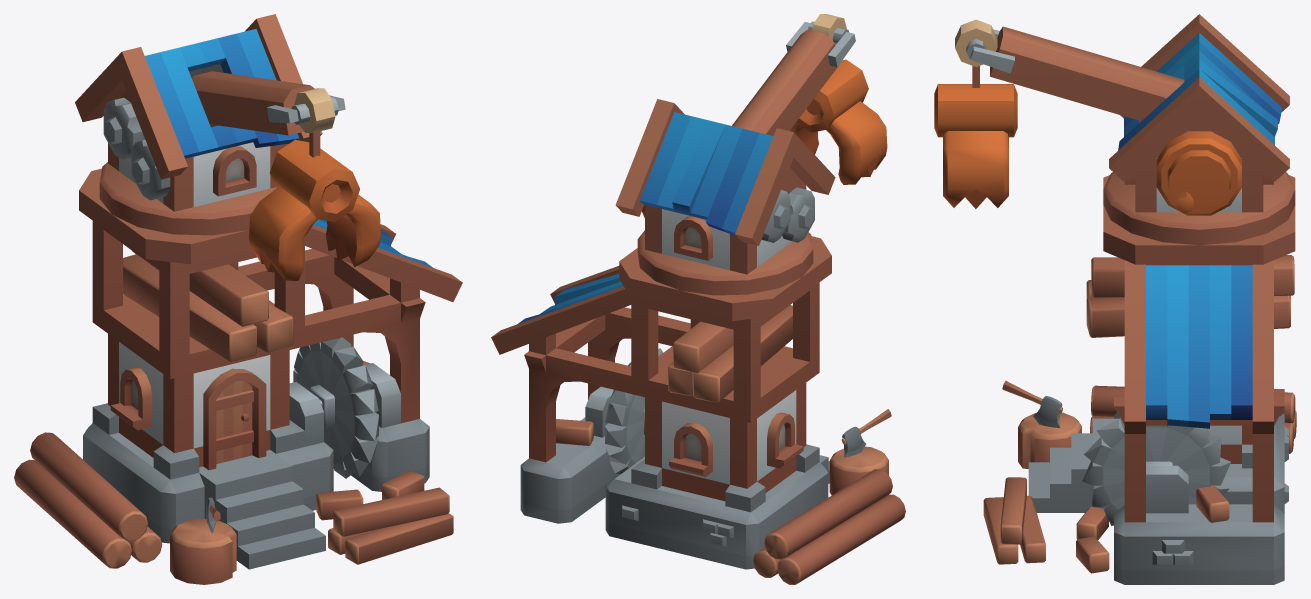
The model's file is lumbermill.glb.
3 views of the same model, side by side, from view 1: azimuth 30°, elevation 25°; view 2: azimuth 150°, elevation 25°; view 3: azimuth 270°, elevation 25° (orthographic). The views are drawn at different scales.
Parts seen in each view (by area): view 1: building_lumbermill_blue, building_lumbermill_top_blue, building_lumbermill_saw_blue; view 2: building_lumbermill_blue, building_lumbermill_top_blue, building_lumbermill_saw_blue; view 3: building_lumbermill_blue, building_lumbermill_top_blue, building_lumbermill_saw_blue.
Boxes of the visible parts, x1,y1,x2,y2 form: building_lumbermill_blue: [14, 168, 462, 584]; building_lumbermill_top_blue: [75, 14, 380, 280]; building_lumbermill_saw_blue: [293, 337, 378, 478]; building_lumbermill_blue: [491, 236, 905, 584]; building_lumbermill_top_blue: [615, 14, 887, 295]; building_lumbermill_saw_blue: [605, 348, 662, 474]; building_lumbermill_blue: [983, 175, 1296, 584]; building_lumbermill_top_blue: [934, 14, 1295, 245]; building_lumbermill_saw_blue: [1082, 417, 1231, 525].
Bounding box in the file's own units: 1.37 × 1.71 × 1.19.
Materials: 3 (3 with a texture image).
